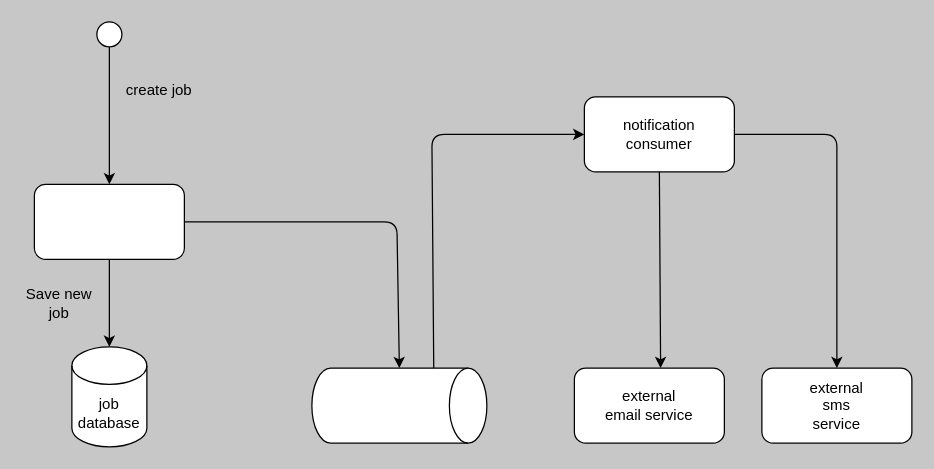
The diagram is 934 pixels wide and 469 high, and some of its shapes have lost their labels. Here are the shapes that lost their labels. From the top down, the box of each, then its label:
(33, 183, 184, 259): job service
(311, 367, 487, 443): message broker
